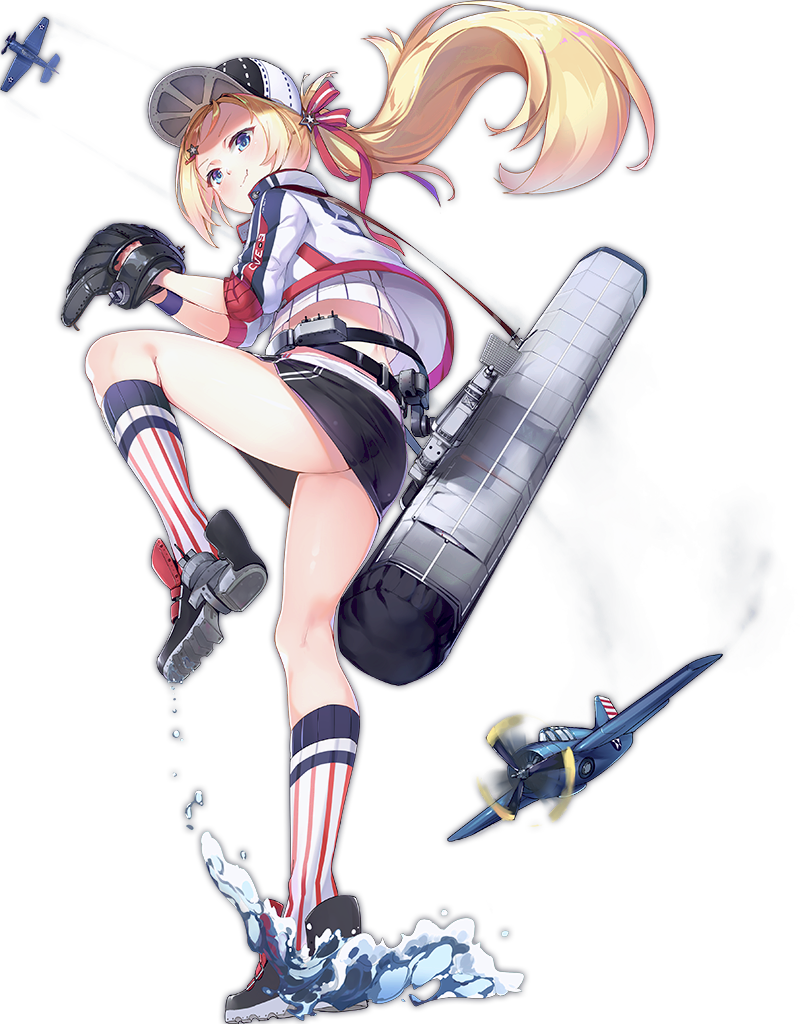person: (57, 60, 486, 758)
